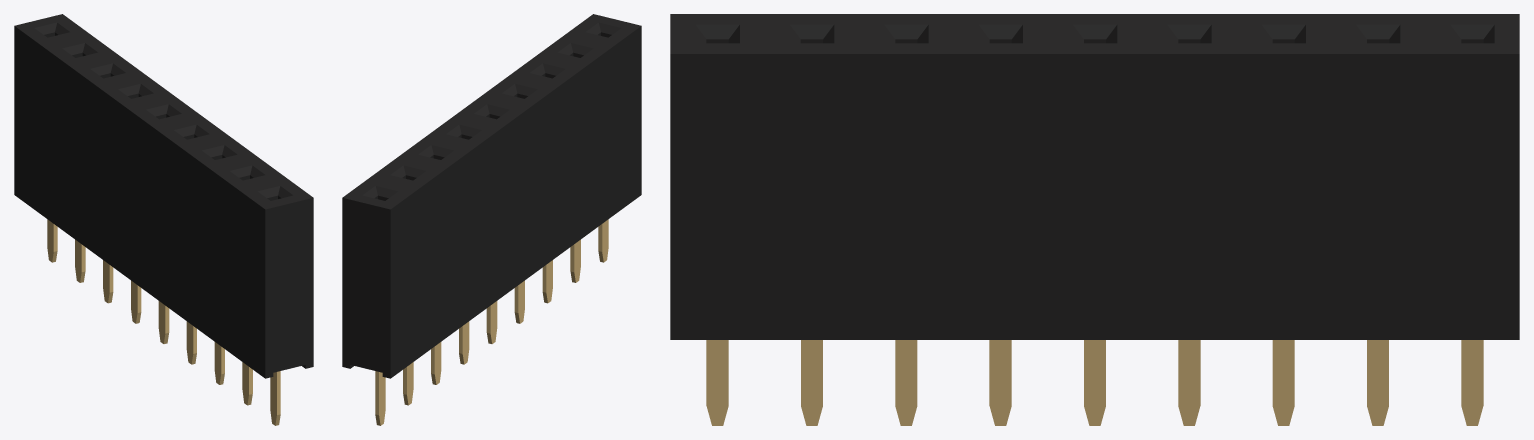
File: kc-pinsocket_1x09_p2.54mm_vertical.glb
3 renders of one model, left to right at view 1: azimuth 30°, elevation 25°; view 2: azimuth 150°, elevation 25°; view 3: azimuth 270°, elevation 25°, orthographic. The views are drawn at different scales.
Visible parts, largest first — view 1: 0_0_0_0, 0.75_0.5_0.25_0.9; view 2: 0_0_0_0, 0.75_0.5_0.25_0.9; view 3: 0_0_0_0, 0.75_0.5_0.25_0.9.
Boxes of the visible parts, box(x1,y1,x2,y2) form: 0_0_0_0: box(14, 14, 313, 378); 0.75_0.5_0.25_0.9: box(47, 219, 280, 425); 0_0_0_0: box(342, 14, 641, 378); 0.75_0.5_0.25_0.9: box(375, 219, 608, 425); 0_0_0_0: box(670, 14, 1519, 339); 0.75_0.5_0.25_0.9: box(706, 340, 1483, 425).
Size of the model in its own units: 0.2539 by 1.16 by 2.29.
